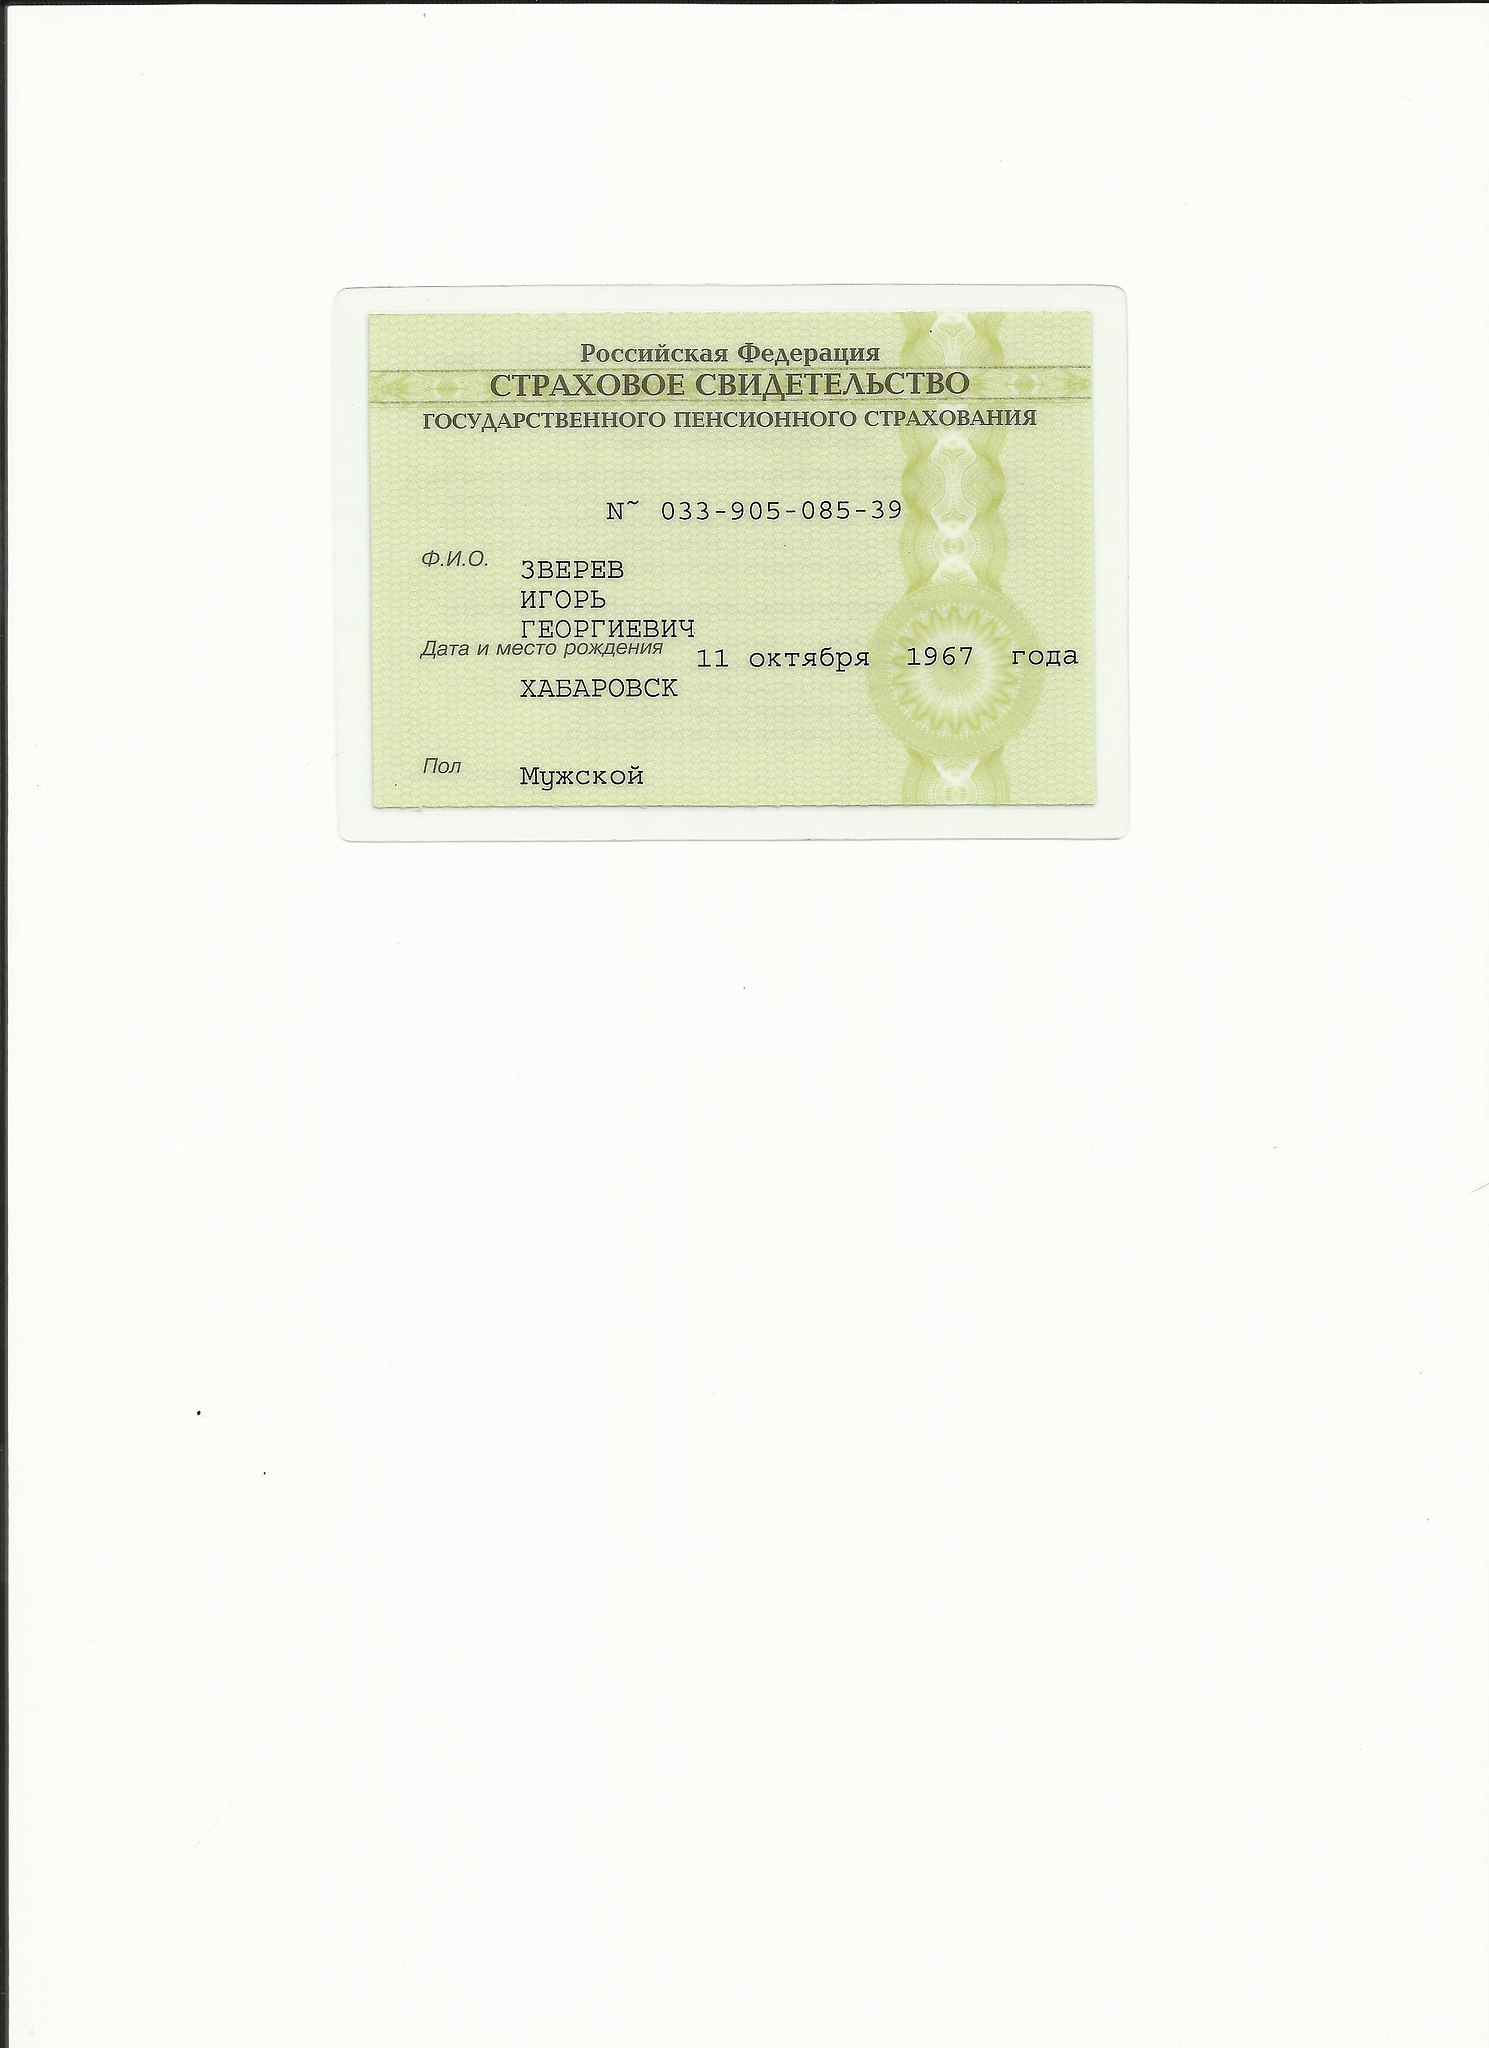text: (695, 641, 1083, 668), (659, 491, 919, 529), (511, 669, 682, 704), (512, 611, 702, 639), (512, 760, 651, 789), (519, 555, 628, 587), (519, 587, 616, 615)
